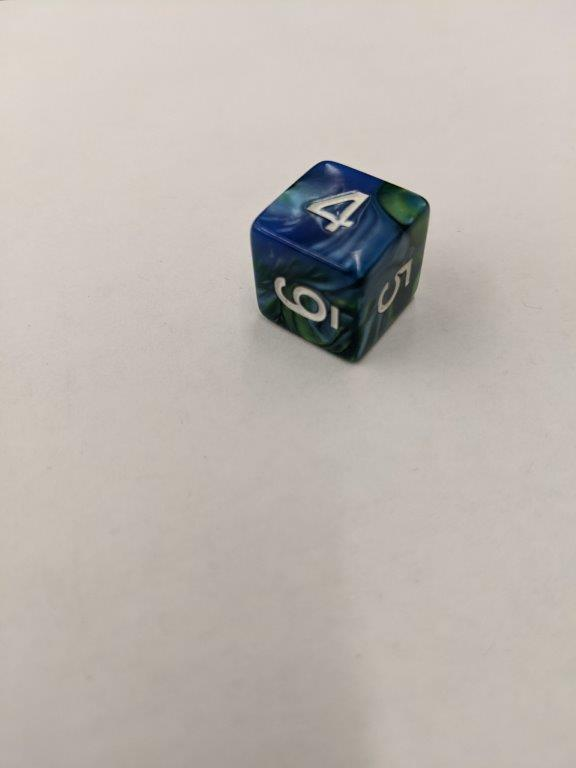d6-4: (250, 159, 431, 364)
